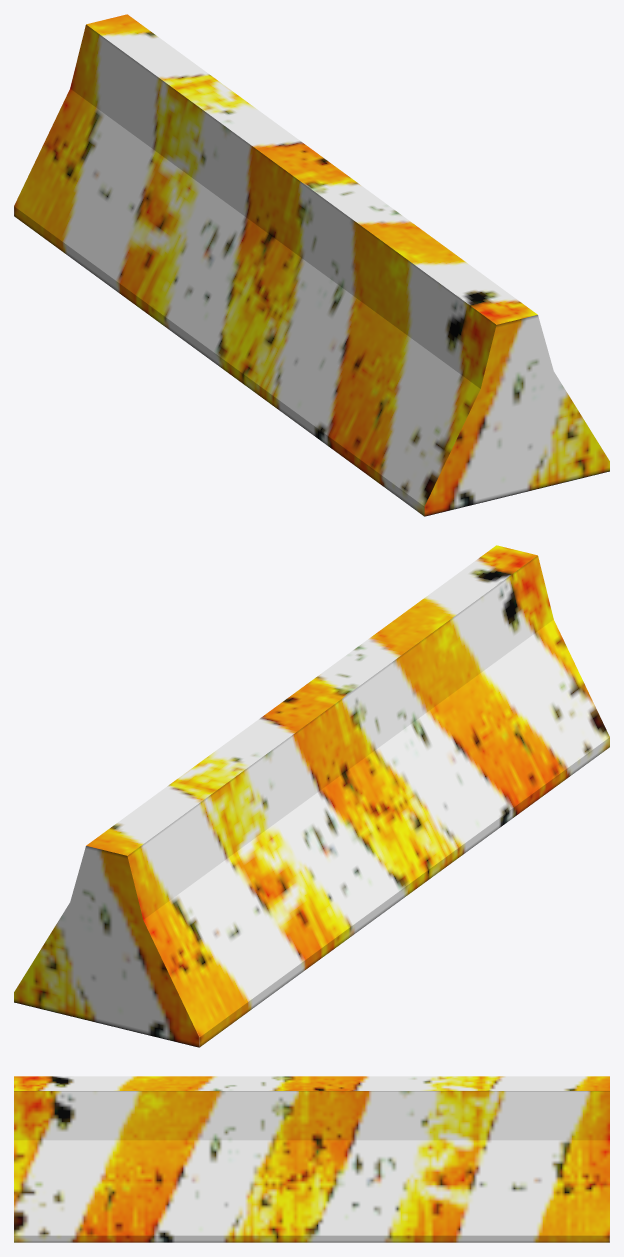
Rendered from barrier.FBX.
3 views of the same model, one above another, from view 1: azimuth 30°, elevation 25°; view 2: azimuth 150°, elevation 25°; view 3: azimuth 270°, elevation 25° (orthographic). The views are drawn at different scales.
Visible parts, largest first — view 1: Box001; view 2: Box001; view 3: Box001.
Part boxes in pixels (x1=…): Box001: x1=14, y1=14, x2=609, y2=516; Box001: x1=14, y1=545, x2=609, y2=1047; Box001: x1=14, y1=1076, x2=609, y2=1242.
Size of the model in its own units: 5.62 by 5.05 by 21.56.
